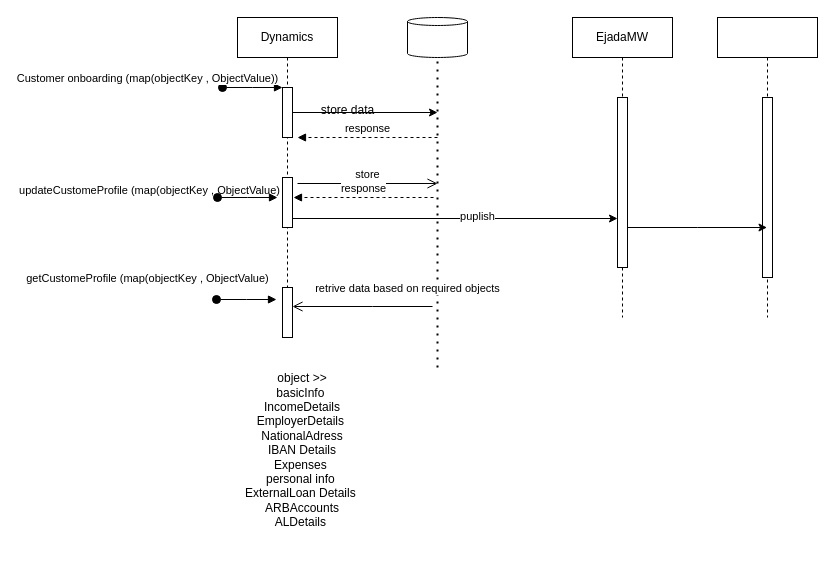
Image size: 835x565. Some labels were removed from this diagram. The box of each missing label's shape, as (x1, y1, x2, y2) in pixels:
CRM DB: (406, 16, 468, 58)
KafKA: (716, 16, 818, 318)
